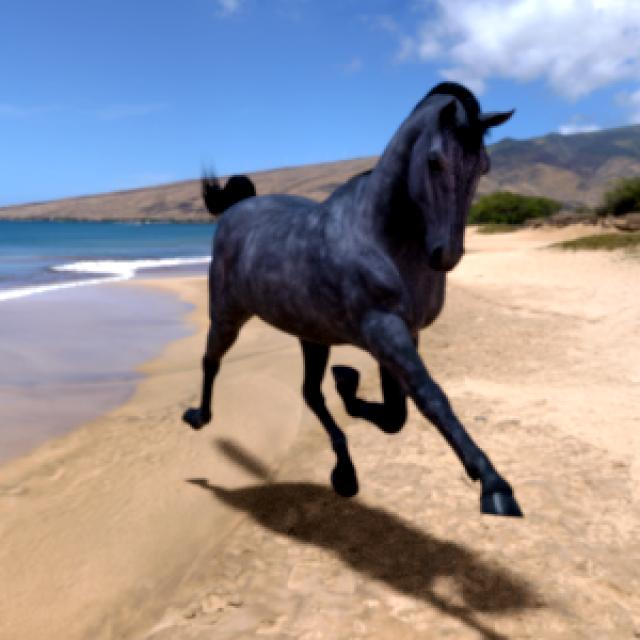horse: (185, 84, 520, 516)
